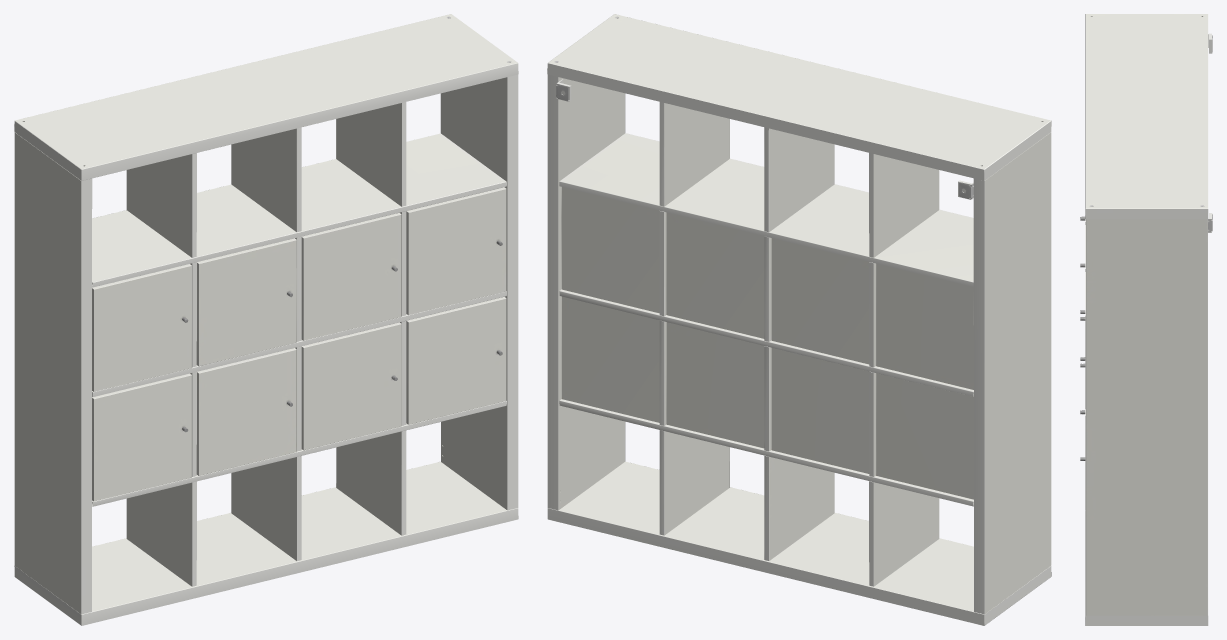
Rendered from 14 - KALLAX Shelving unit with 8 inserts - white 147x147 cm.glb.
3 renders of one model, left to right at view 1: azimuth 30°, elevation 25°; view 2: azimuth 150°, elevation 25°; view 3: azimuth 270°, elevation 25°, orthographic. The views are drawn at different scales.
Bounding box in the file's own units: 1.47 × 1.47 × 0.4211.
Materials: 1 (1 with a texture image).
